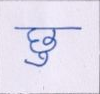u_matra: (25, 52, 51, 67)
